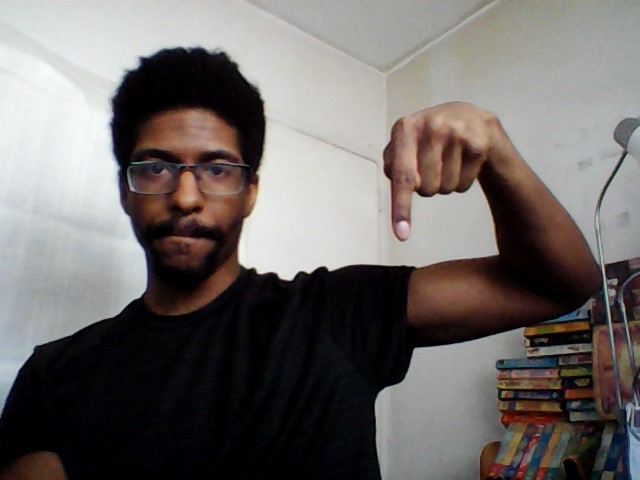q: (379, 99, 499, 250)
